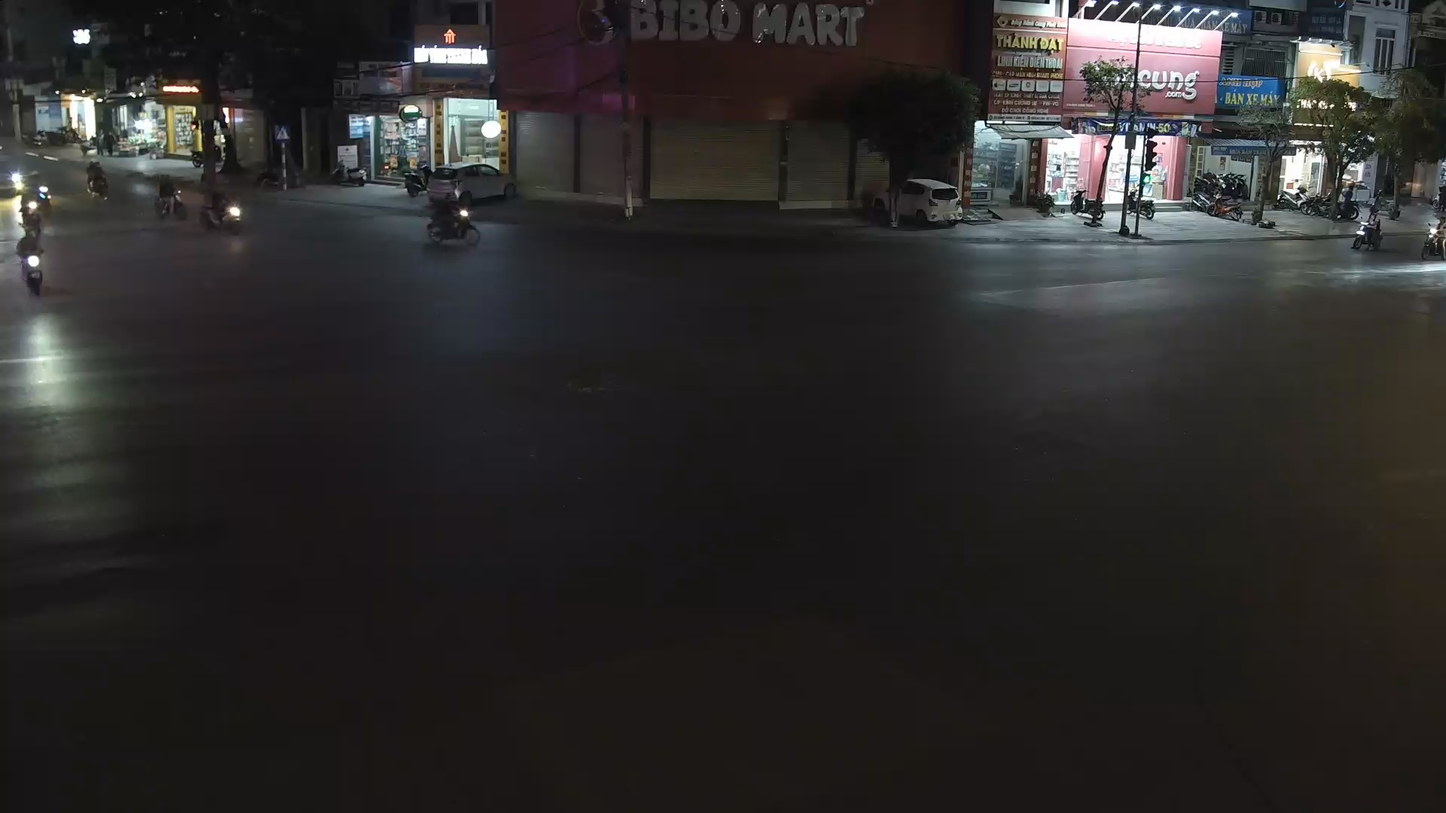motorbike: (421, 179, 481, 251), (13, 207, 53, 298), (201, 175, 245, 233), (152, 171, 187, 222), (1352, 201, 1384, 254)
